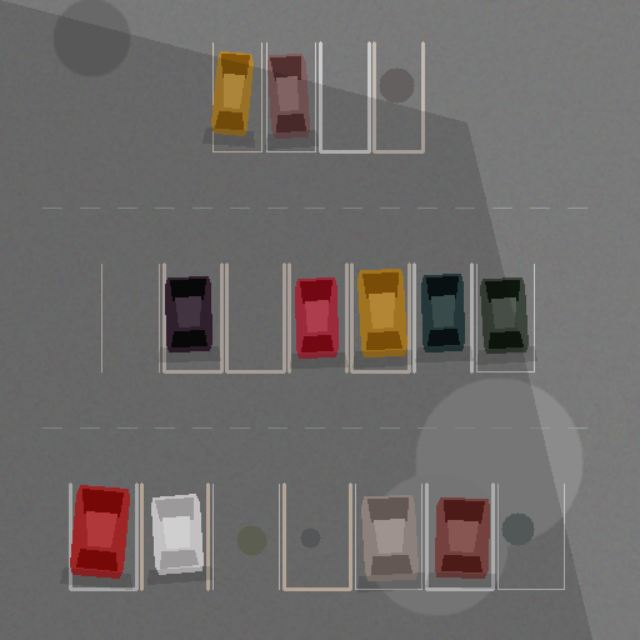space-empty: (212, 484, 279, 589), (284, 484, 350, 589), (498, 484, 564, 589), (101, 264, 159, 371), (226, 264, 284, 371), (320, 42, 369, 151), (374, 42, 422, 151)
space-occupied: (141, 484, 208, 589), (70, 484, 136, 589), (355, 484, 421, 589), (426, 484, 492, 589), (351, 264, 409, 371), (476, 264, 534, 371), (164, 264, 221, 371), (289, 264, 346, 371), (414, 264, 471, 371), (212, 42, 261, 151), (266, 42, 315, 151)
